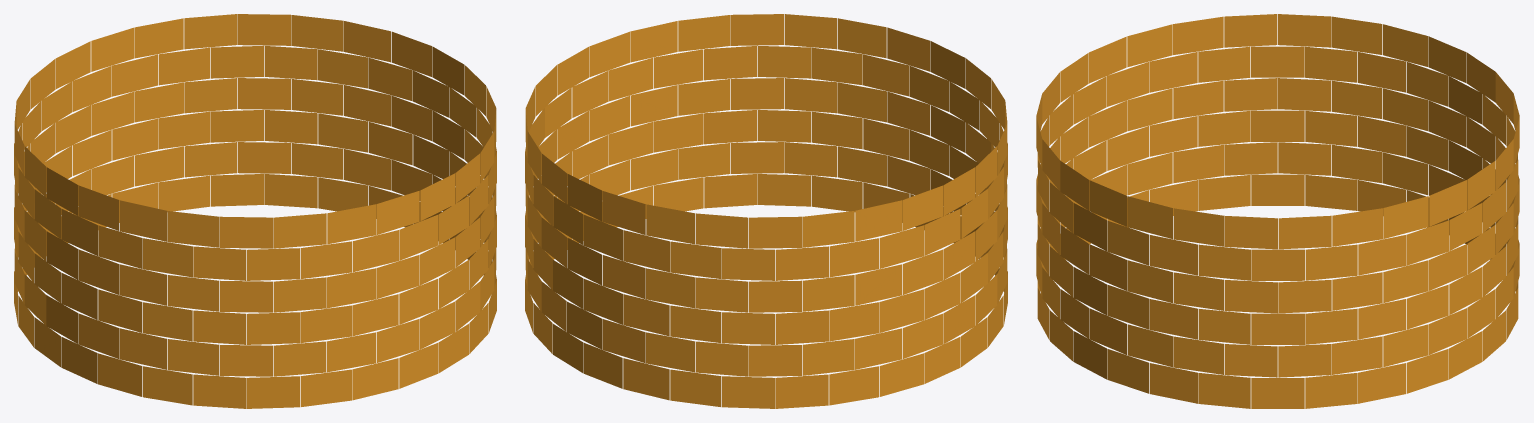
The model's file is collisey.obj.
3 views of the same model, side by side, from view 1: azimuth 30°, elevation 25°; view 2: azimuth 150°, elevation 25°; view 3: azimuth 270°, elevation 25° (orthographic).
Visible parts, largest first — view 1: Cube; view 2: Cube; view 3: Cube.
Boxes of the visible parts, x1=… form: Cube: x1=14, y1=14, x2=496, y2=408; Cube: x1=525, y1=14, x2=1007, y2=408; Cube: x1=1036, y1=14, x2=1519, y2=408.
Bounding box in the file's own units: 28.17 × 12.3 × 28.17.
